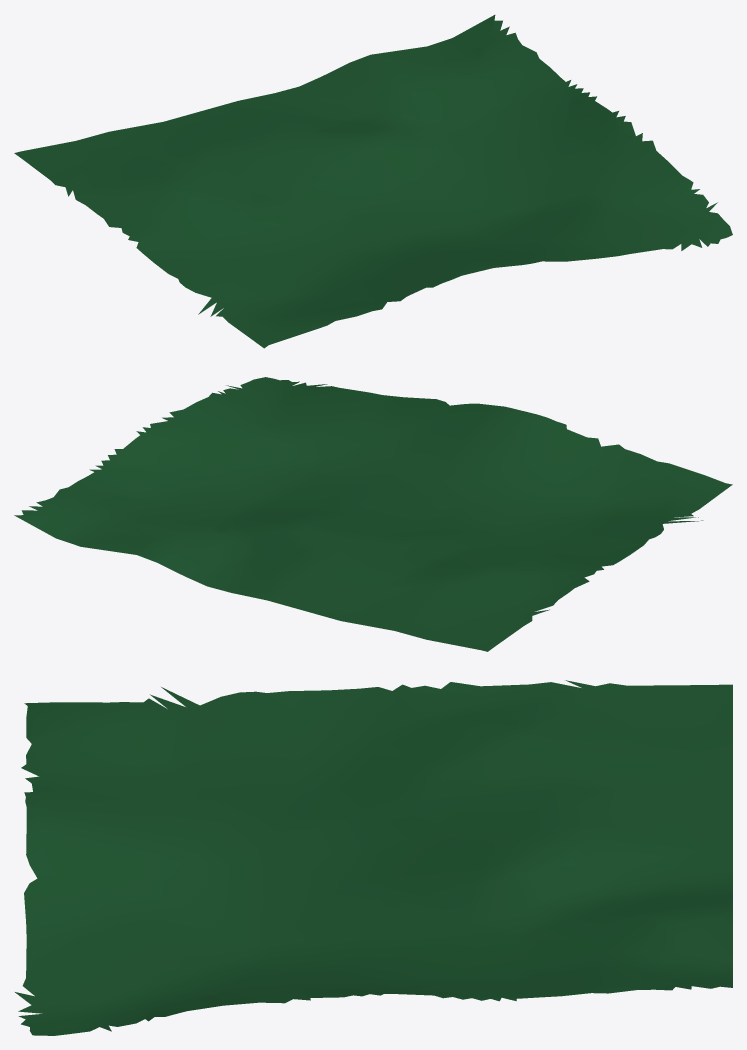
File: payo_land_x2_ym4_lod2.glb
The picture shows the model from 3 angles, top to bottom: view 1: azimuth 30°, elevation 25°; view 2: azimuth 150°, elevation 25°; view 3: azimuth 270°, elevation 25°; orthographic projection. The views are drawn at different scales.
Visible parts, largest first — view 1: payo_land_x2_ym4; view 2: payo_land_x2_ym4; view 3: payo_land_x2_ym4.
Boxes of the visible parts, x1,y1,x2,y2 form: payo_land_x2_ym4: [14, 15, 732, 348]; payo_land_x2_ym4: [14, 377, 732, 651]; payo_land_x2_ym4: [15, 680, 732, 1035].
Size of the model in its own units: 270 by 21.54 by 235.
